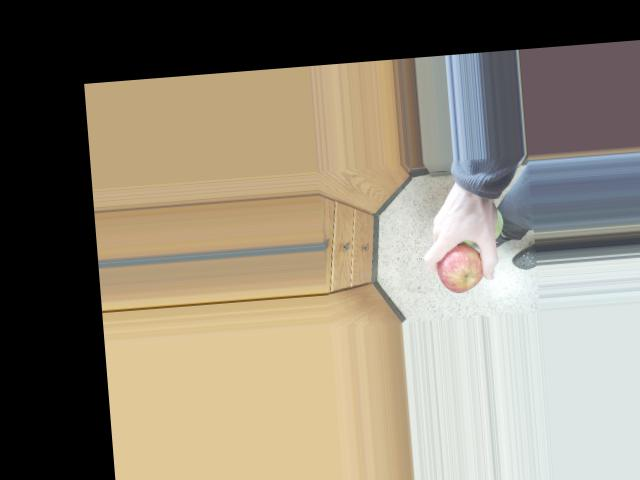apple: (432, 234, 492, 296)
